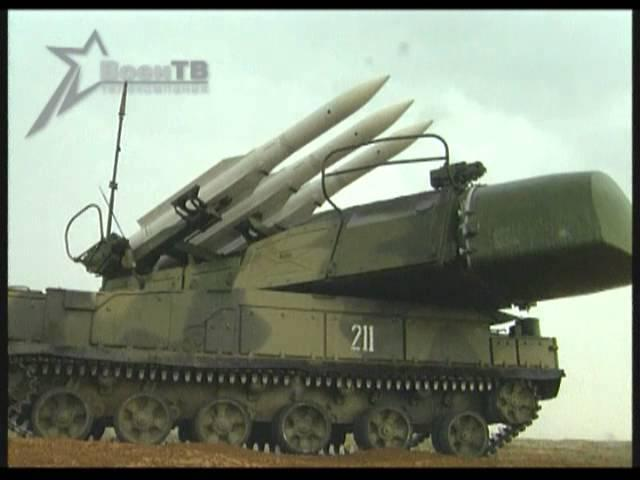rszo: (5, 75, 640, 480)
